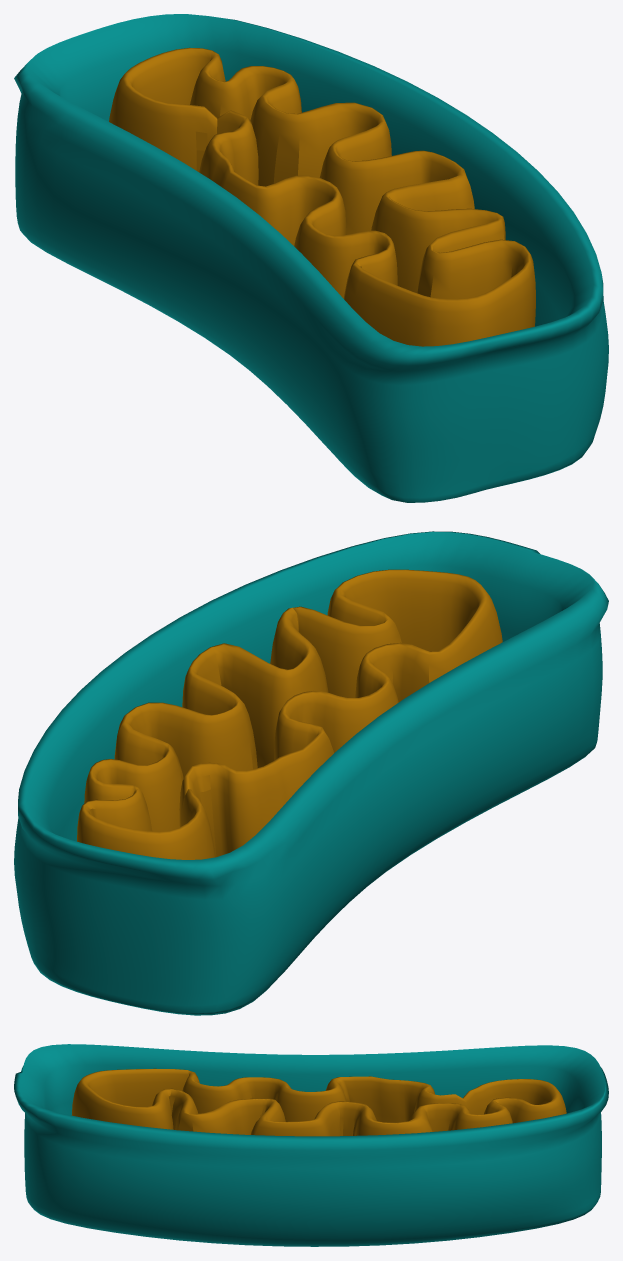
File: Mitochondria.fbx
3 views of the same model, one above another, from view 1: azimuth 30°, elevation 25°; view 2: azimuth 150°, elevation 25°; view 3: azimuth 270°, elevation 25° (orthographic). The views are drawn at different scales.
Visible parts, largest first — view 1: pCube1, pCylinder2; view 2: pCube1, pCylinder2; view 3: pCube1, pCylinder2.
Part boxes in pixels (x1=…): pCube1: x1=14, y1=14, x2=608, y2=502; pCylinder2: x1=109, y1=47, x2=535, y2=346; pCube1: x1=14, y1=531, x2=608, y2=1015; pCylinder2: x1=77, y1=569, x2=502, y2=859; pCube1: x1=14, y1=1044, x2=608, y2=1246; pCylinder2: x1=71, y1=1068, x2=566, y2=1136.
Bounding box in the file's own units: 6.64 × 3.22 × 15.08.
